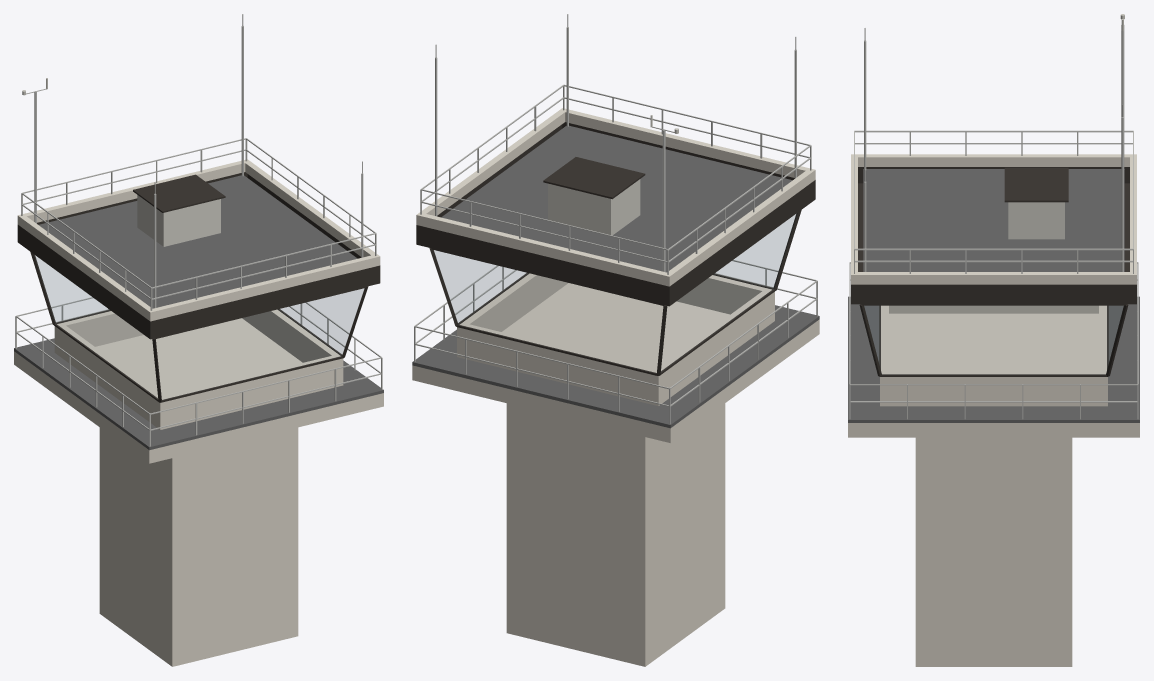
File: class_d_tower.gltf
The picture shows the model from 3 angles, left to right: view 1: azimuth 30°, elevation 25°; view 2: azimuth 150°, elevation 25°; view 3: azimuth 270°, elevation 25°; orthographic projection. The views are drawn at different scales.
Parts seen in each view (by area): view 1: ClassD_Shell, ClassD_Glass, ClassD_RoofGear, ClassD_Fascia, ClassD_Frame; view 2: ClassD_Shell, ClassD_Glass, ClassD_RoofGear, ClassD_Fascia, ClassD_Frame; view 3: ClassD_Shell, ClassD_Glass, ClassD_RoofGear, ClassD_Fascia, ClassD_Frame.
Part boxes in pixels (bbox=[...]): ClassD_Shell: bbox=[14, 159, 383, 666]; ClassD_Glass: bbox=[35, 255, 363, 399]; ClassD_RoofGear: bbox=[15, 14, 382, 446]; ClassD_Fascia: bbox=[17, 172, 380, 339]; ClassD_Frame: bbox=[30, 252, 368, 402]; ClassD_Shell: bbox=[412, 108, 819, 666]; ClassD_Glass: bbox=[434, 214, 796, 372]; ClassD_RoofGear: bbox=[414, 14, 817, 424]; ClassD_Fascia: bbox=[416, 122, 815, 306]; ClassD_Frame: bbox=[429, 210, 801, 375]; ClassD_Shell: bbox=[848, 154, 1139, 666]; ClassD_Glass: bbox=[864, 306, 1123, 374]; ClassD_RoofGear: bbox=[849, 14, 1138, 419]; ClassD_Fascia: bbox=[851, 167, 1136, 304]; ClassD_Frame: bbox=[859, 304, 1128, 376].
Size of the model in its own units: 8.2 by 18.1 by 8.2.
